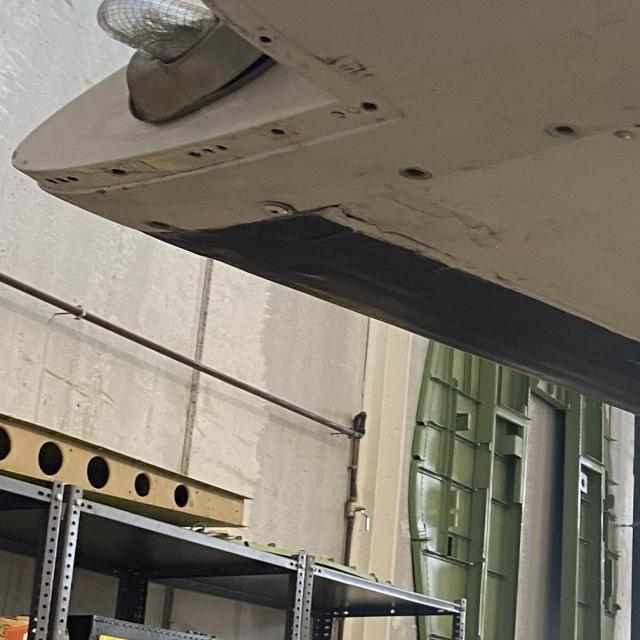Missing-head: (394, 165, 430, 182), (547, 123, 581, 139), (144, 220, 173, 232), (105, 166, 131, 179), (356, 101, 382, 113), (264, 125, 286, 139), (255, 32, 275, 47), (209, 143, 232, 152), (184, 149, 203, 159)
